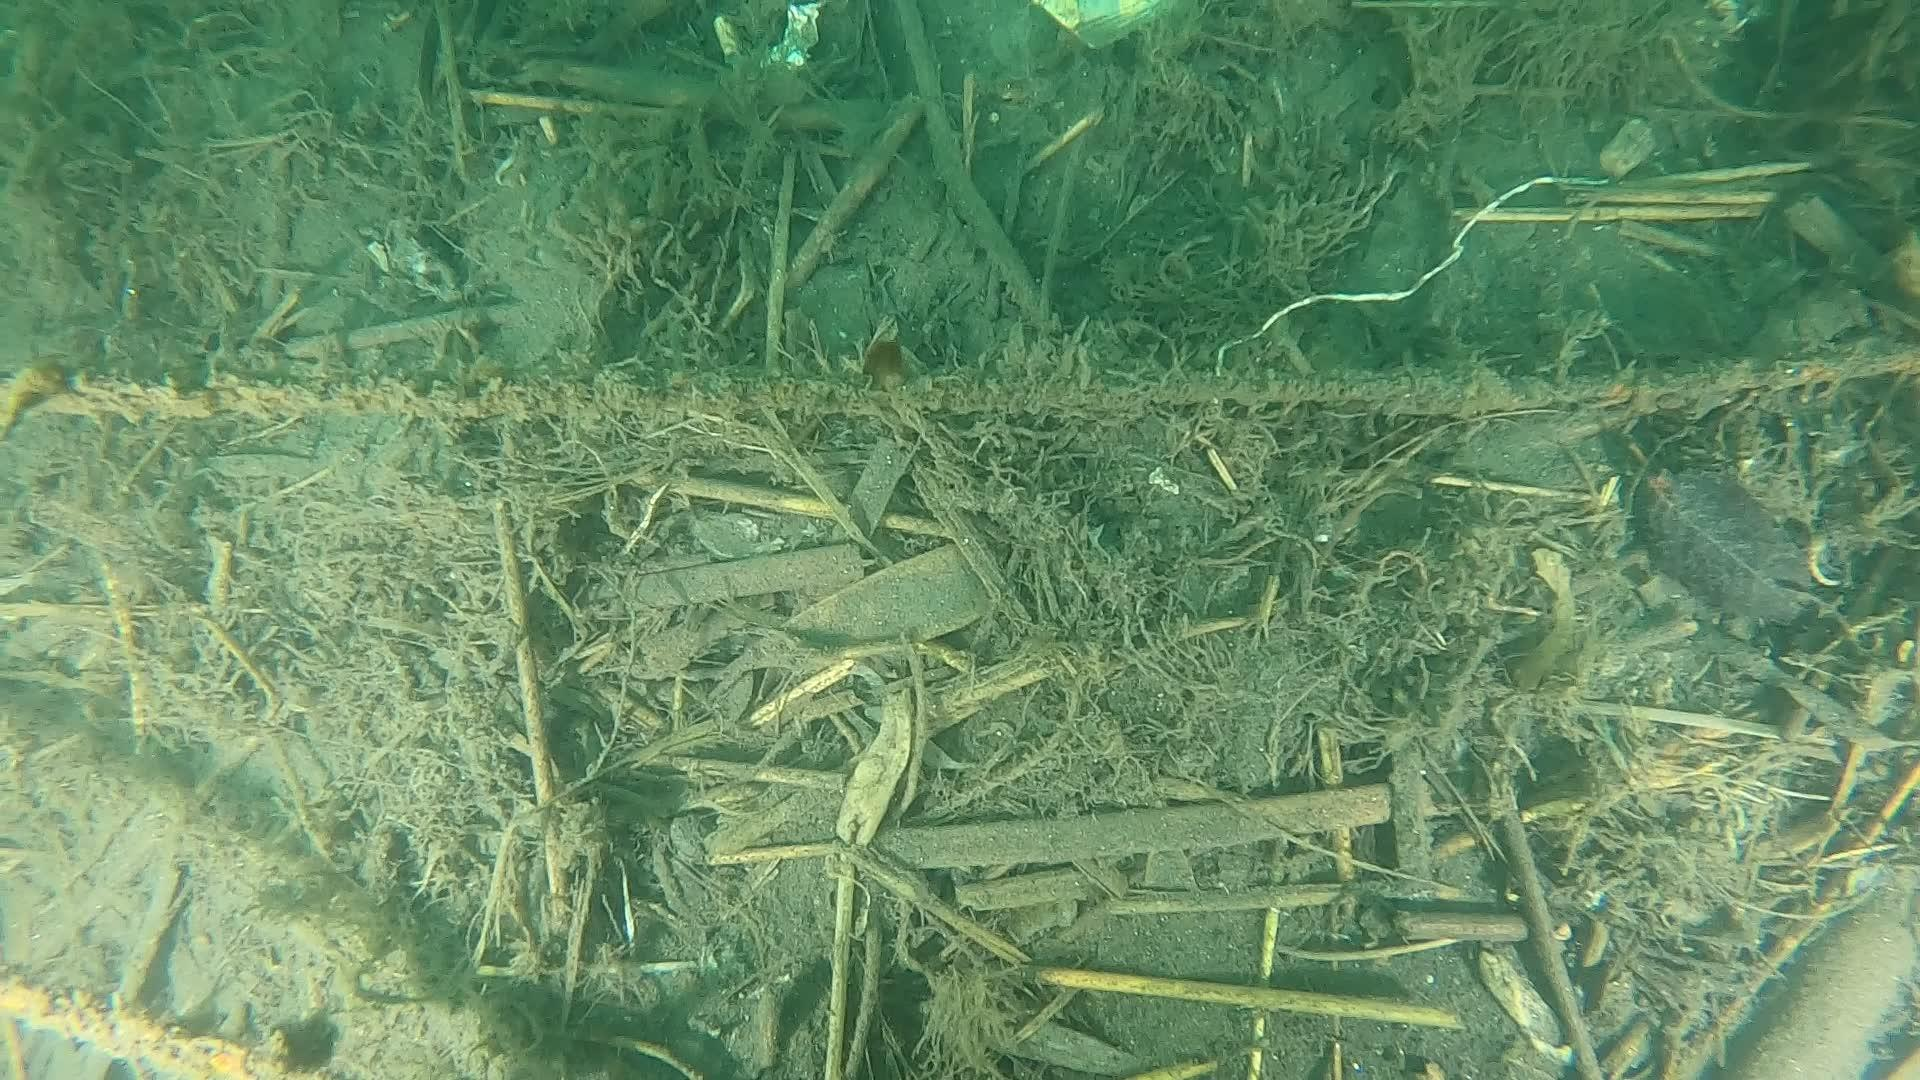rope: (0, 339, 1917, 439)
